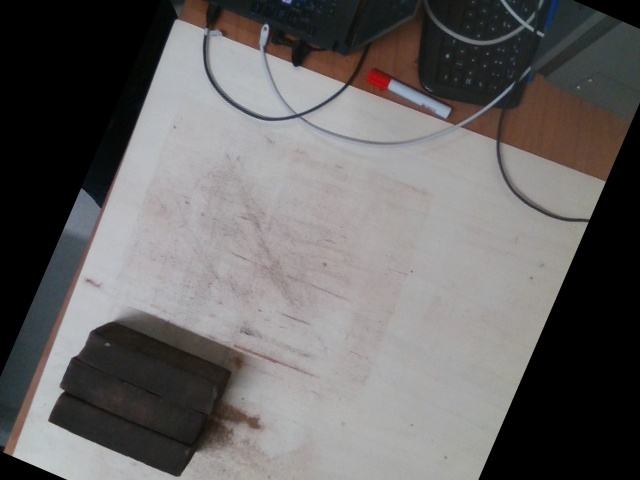brick-side: (77, 329, 218, 416), (47, 392, 188, 478), (61, 358, 202, 444)
